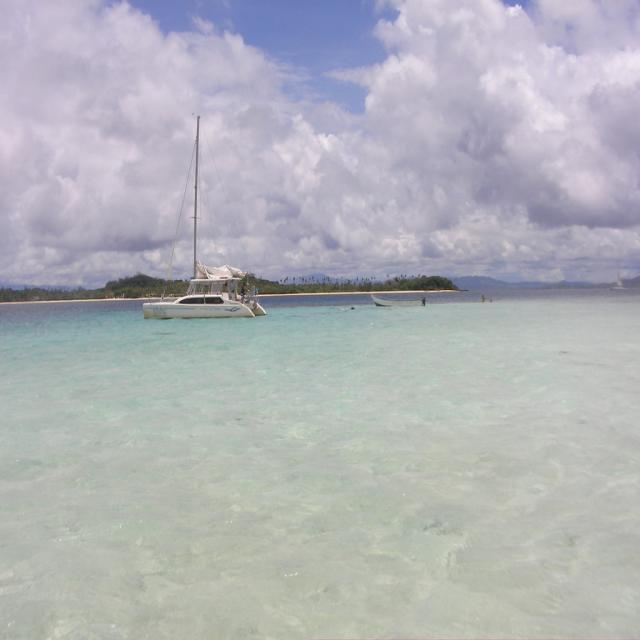Boat: (147, 130, 273, 326)
